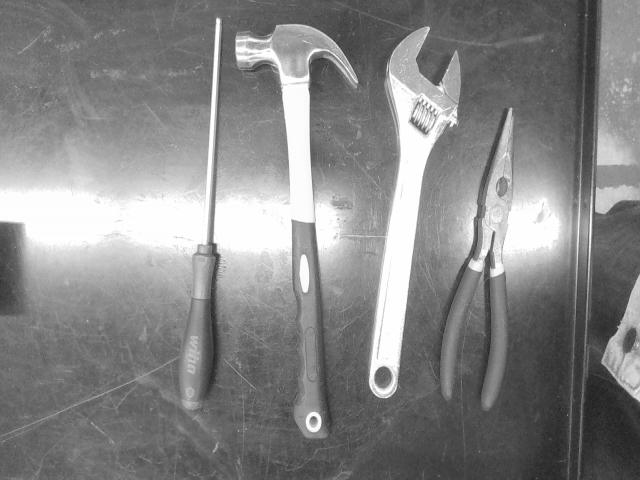Adjustable spanner: (369, 27, 460, 398)
Hammer: (235, 24, 358, 438)
Needle-nose pliers: (440, 109, 514, 410)
Screwdriver: (180, 19, 221, 410)
